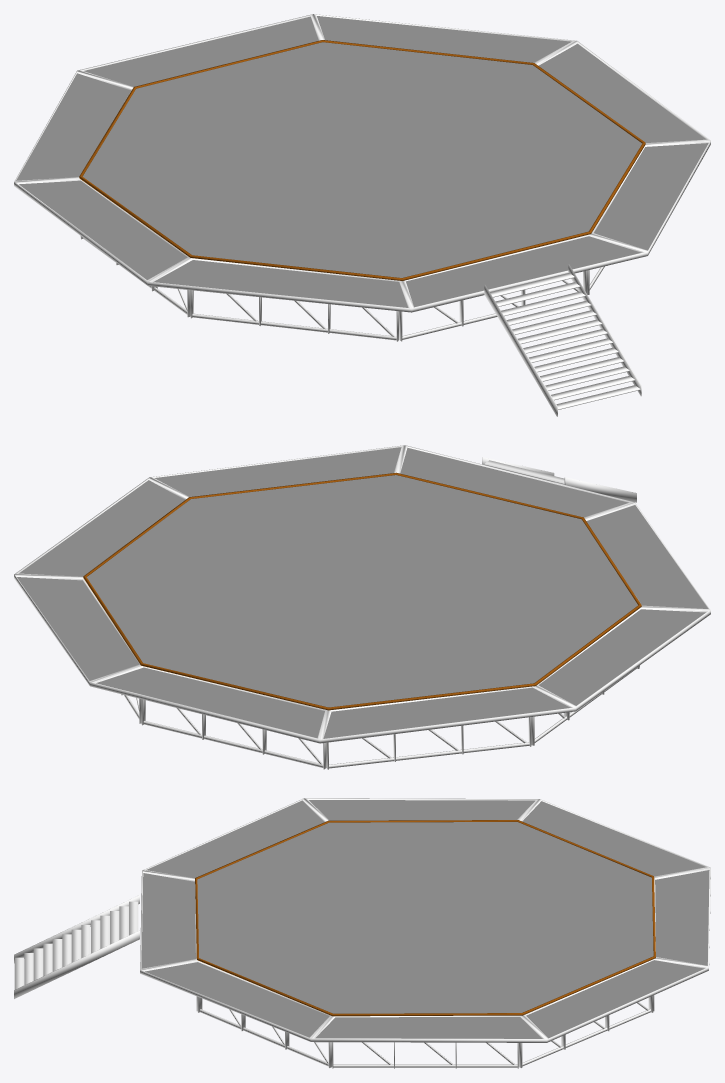
The model's file is SM_launchpad.FBX.
3 renders of one model, top to bottom at view 1: azimuth 30°, elevation 25°; view 2: azimuth 150°, elevation 25°; view 3: azimuth 270°, elevation 25°, orthographic. The views are drawn at different scales.
Parts seen in each view (by area): view 1: Object019; view 2: Object019; view 3: Object019.
Part boxes in pixels (<box>): Object019: <box>14,14,710,416</box>; Object019: <box>14,445,710,769</box>; Object019: <box>14,798,710,1068</box>.
Bounding box in the file's own units: 11491 × 1523 × 14026.
